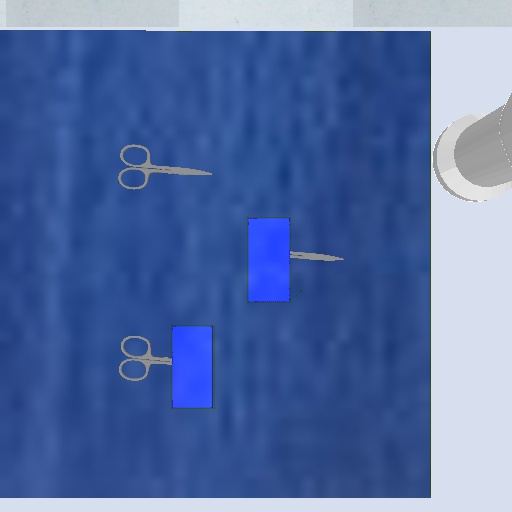tijera: (113, 138, 218, 196), (112, 332, 172, 385), (290, 247, 350, 264)
